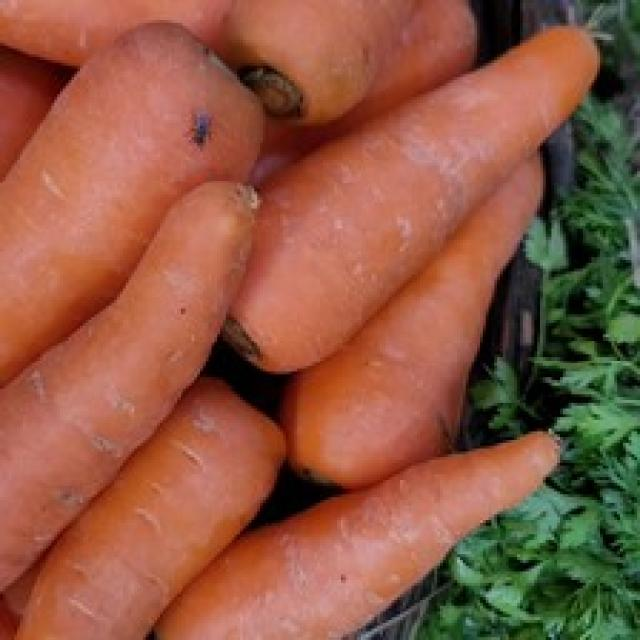Fresh_Carrot: (232, 39, 599, 376), (282, 135, 552, 493), (0, 27, 266, 389), (5, 189, 250, 545), (193, 441, 561, 640), (14, 392, 279, 640)
